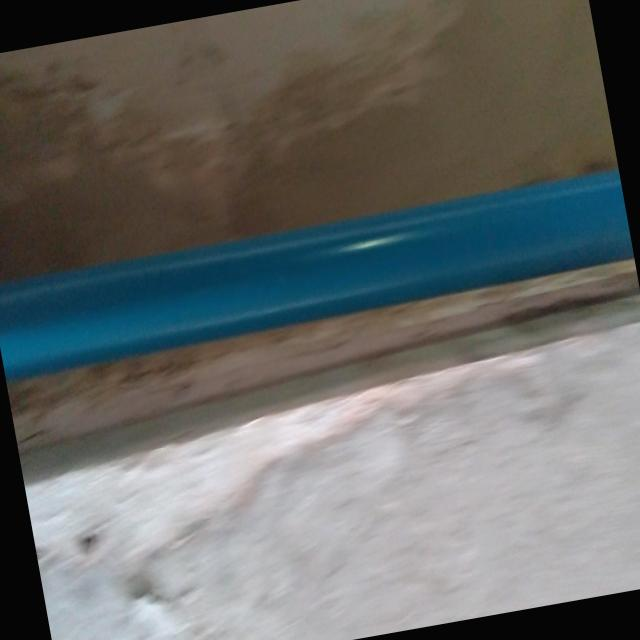gas: (0, 156, 636, 385)
